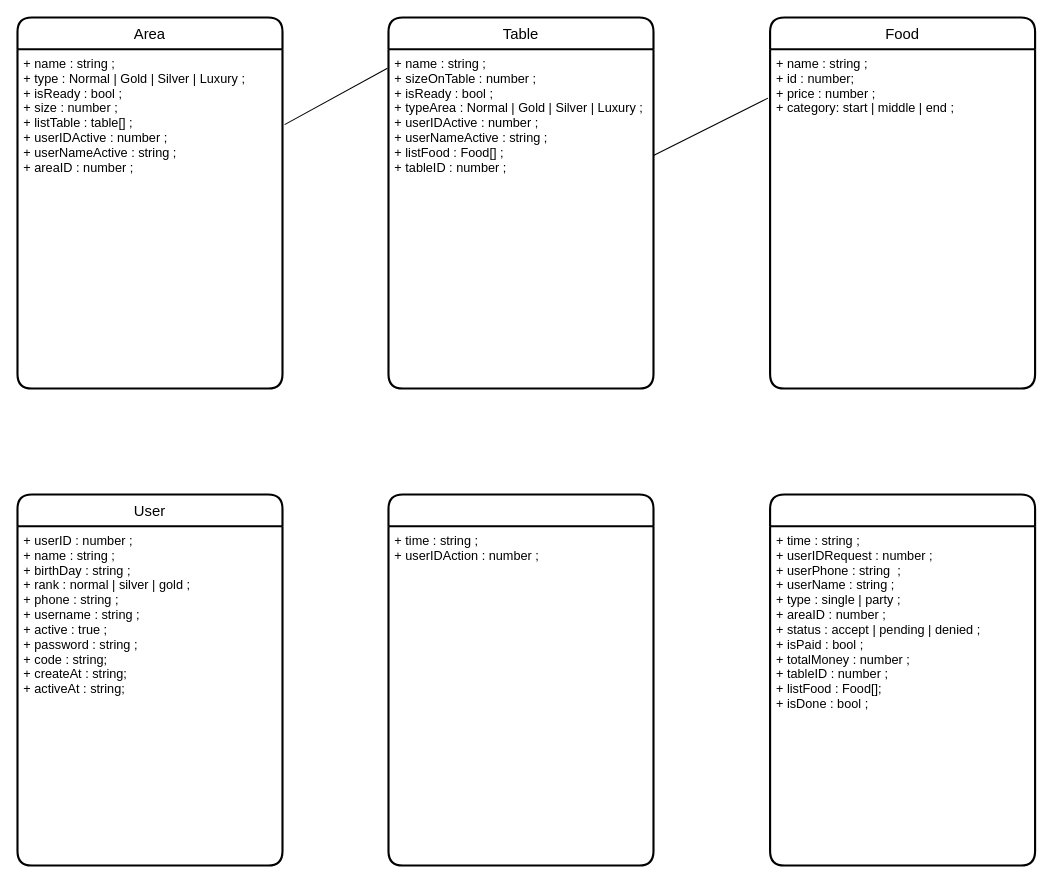
Image size: 1053x883. Some labels were removed from this diagram. The box of each missing label's shape, as (x1, y1, x2, y2) in pixels:
History: (387, 493, 654, 866)
RequestOrder: (768, 493, 1036, 866)
